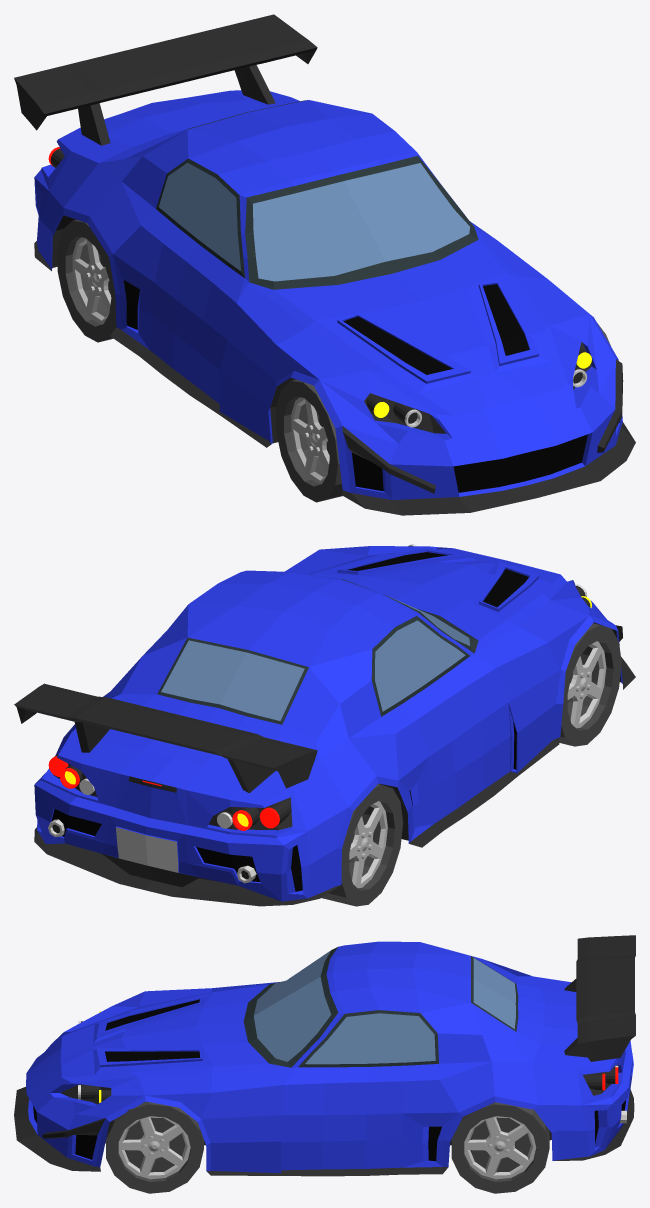
Rendered from honda.fbx.
The picture shows the model from 3 angles, top to bottom: view 1: azimuth 30°, elevation 25°; view 2: azimuth 150°, elevation 25°; view 3: azimuth 270°, elevation 25°; orthographic projection. The views are drawn at different scales.
Parts seen in each view (by area): view 1: car_honda, wheel_fr_honda, wheel_br_honda; view 2: car_honda, wheel_br_honda, wheel_fr_honda; view 3: car_honda, wheel_bl_honda, wheel_fl_honda.
Boxes of the visible parts, x1=… form: car_honda: x1=14, y1=14, x2=635, y2=515; wheel_fr_honda: x1=276, y1=379, x2=342, y2=502; wheel_br_honda: x1=57, y1=220, x2=116, y2=342; car_honda: x1=14, y1=544, x2=635, y2=906; wheel_br_honda: x1=322, y1=784, x2=403, y2=906; wheel_fr_honda: x1=559, y1=623, x2=621, y2=746; car_honda: x1=14, y1=935, x2=635, y2=1176; wheel_bl_honda: x1=451, y1=1102, x2=549, y2=1193; wheel_fl_honda: x1=106, y1=1101, x2=203, y2=1193.
Bounding box in the file's own units: 209 × 139 × 457.
